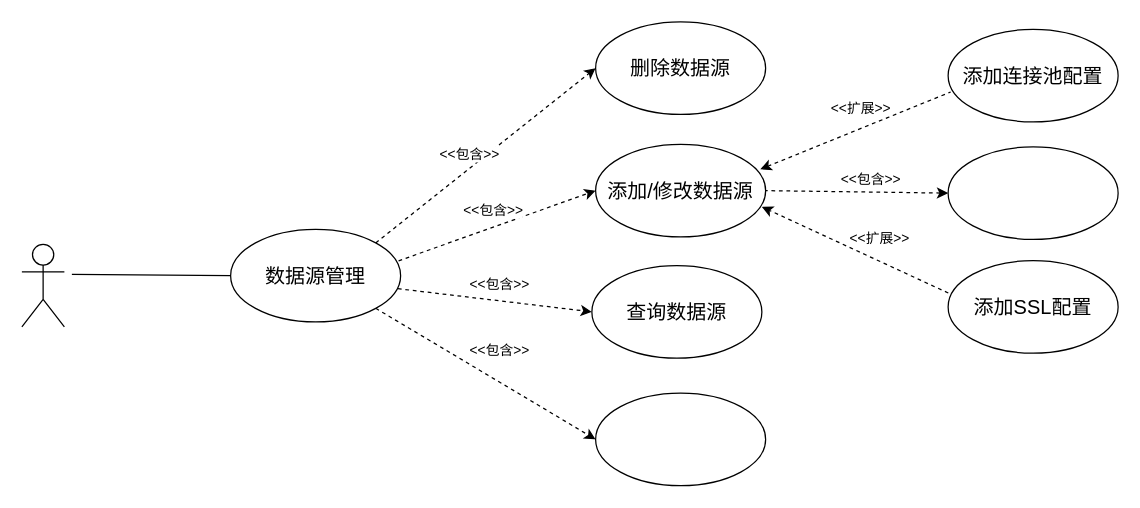
Image size: 1140x508. Some labels were removed from this diagram. Here are the shapes that lost their labels. From the top down, the centre of each, then its label:
At (x=1032, y=192): "测试连接".
At (x=42, y=285): "用户".
At (x=680, y=439): "超时检测".
